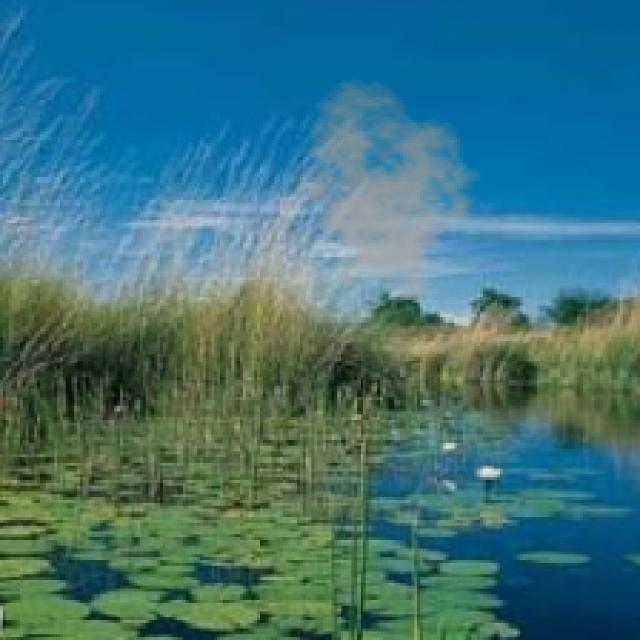smoke: (283, 77, 483, 306)
